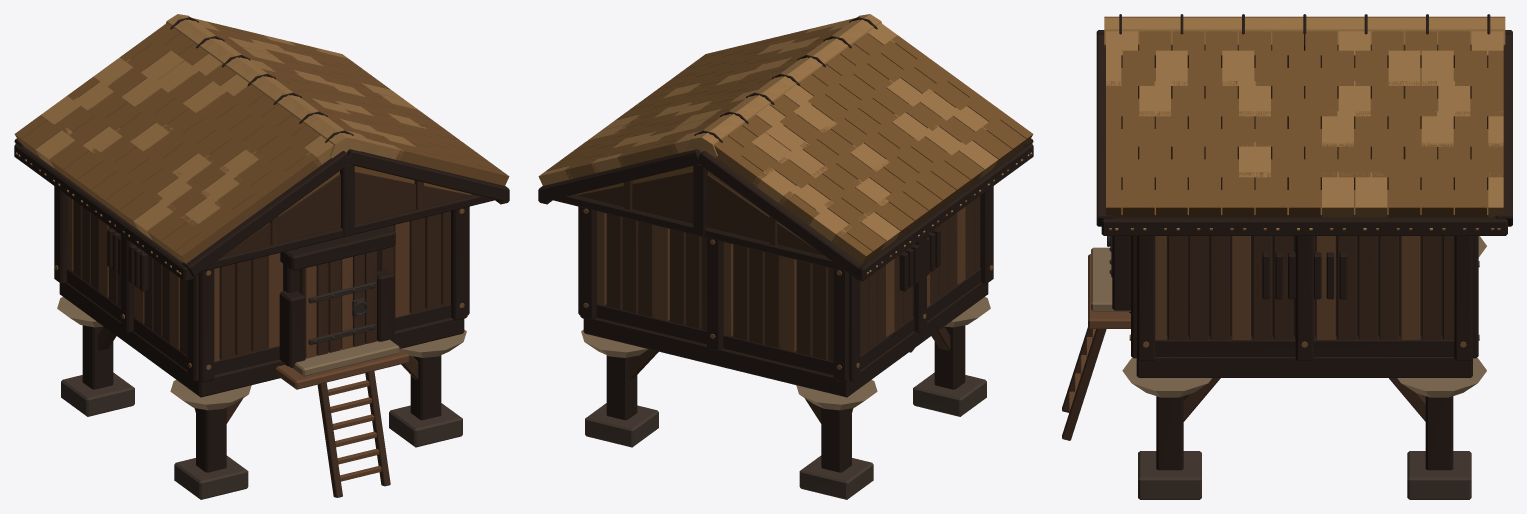
The model's file is granary.glb.
3 renders of one model, left to right at view 1: azimuth 30°, elevation 25°; view 2: azimuth 150°, elevation 25°; view 3: azimuth 270°, elevation 25°, orthographic. The views are drawn at different scales.
Visible parts, largest first — view 1: Detailed structure surfaces; view 2: Detailed structure surfaces; view 3: Detailed structure surfaces.
Boxes of the visible parts, x1,y1,x2,y2 form: Detailed structure surfaces: (14,14,509,499); Detailed structure surfaces: (538,14,1033,499); Detailed structure surfaces: (1062,14,1512,499).
Size of the model in its own units: 5 by 5 by 5.
1 material, 1 textured.
